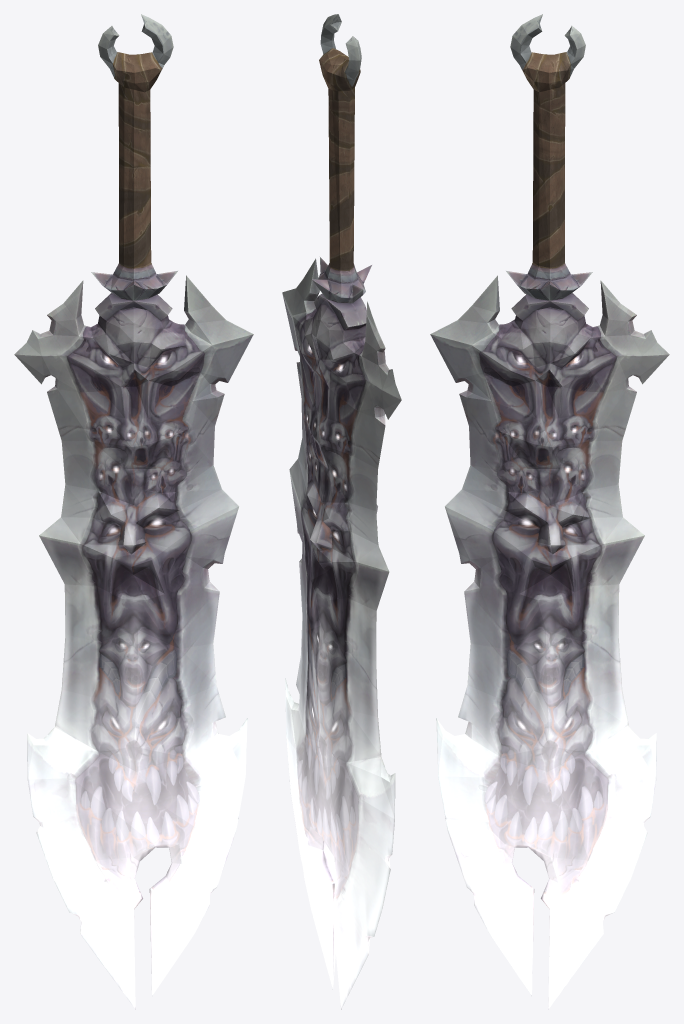
File: War_Weapon.fbx
3 views of the same model, side by side, from view 1: azimuth 90°, elevation 25°; view 2: azimuth 210°, elevation 25°; view 3: azimuth 270°, elevation 25° (orthographic).
Visible parts, largest first — view 1: War_Weapon_Chaoseater.mo; view 2: War_Weapon_Chaoseater.mo; view 3: War_Weapon_Chaoseater.mo.
Boxes of the visible parts, <box> form: War_Weapon_Chaoseater.mo: <box>14,14,253,1009</box>; War_Weapon_Chaoseater.mo: <box>282,14,401,1009</box>; War_Weapon_Chaoseater.mo: <box>430,14,669,1009</box>.
Size of the model in its own units: 16.67 by 245 by 53.45.
1 material, 1 textured.
